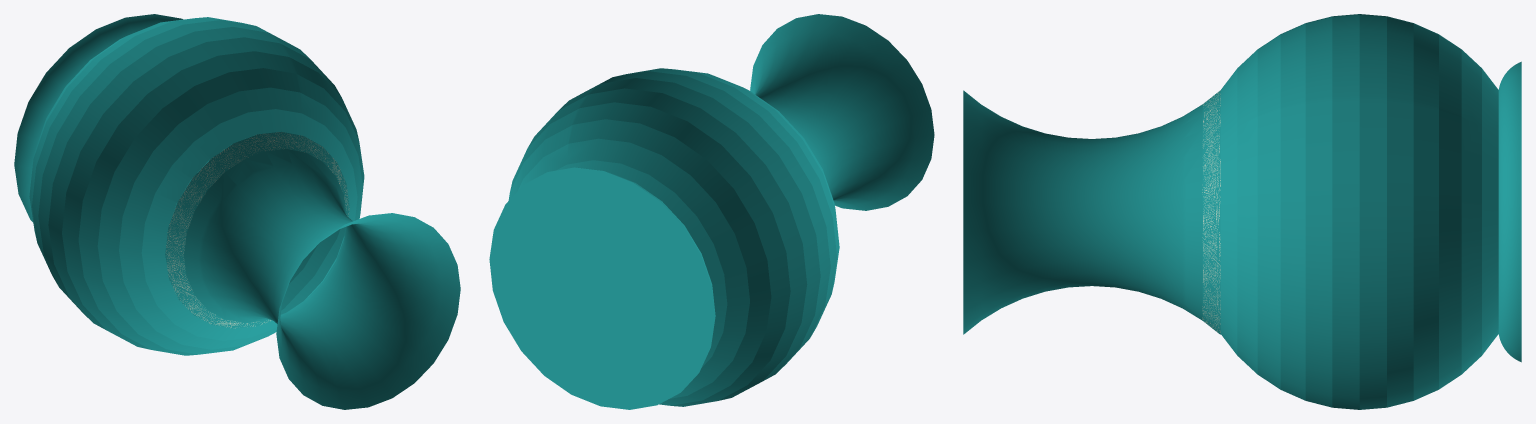
Rendered from model_scale.obj.
3 views of the same model, side by side, from view 1: azimuth 30°, elevation 25°; view 2: azimuth 150°, elevation 25°; view 3: azimuth 270°, elevation 25° (orthographic). The views are drawn at different scales.
Parts seen in each view (by area): view 1: mesh1_mesh1-geometry, mesh2_mesh2-geometry; view 2: mesh1_mesh1-geometry, mesh2_mesh2-geometry; view 3: mesh1_mesh1-geometry, mesh2_mesh2-geometry.
Boxes of the visible parts, x1=… form: mesh1_mesh1-geometry: x1=14, y1=14, x2=364, y2=355; mesh2_mesh2-geometry: x1=165, y1=131, x2=460, y2=409; mesh1_mesh1-geometry: x1=489, y1=68, x2=839, y2=409; mesh2_mesh2-geometry: x1=750, y1=14, x2=934, y2=210; mesh1_mesh1-geometry: x1=1220, y1=14, x2=1521, y2=409; mesh2_mesh2-geometry: x1=963, y1=90, x2=1220, y2=334.
Size of the model in its own units: 0.0844 by 0.0844 by 0.1184.
